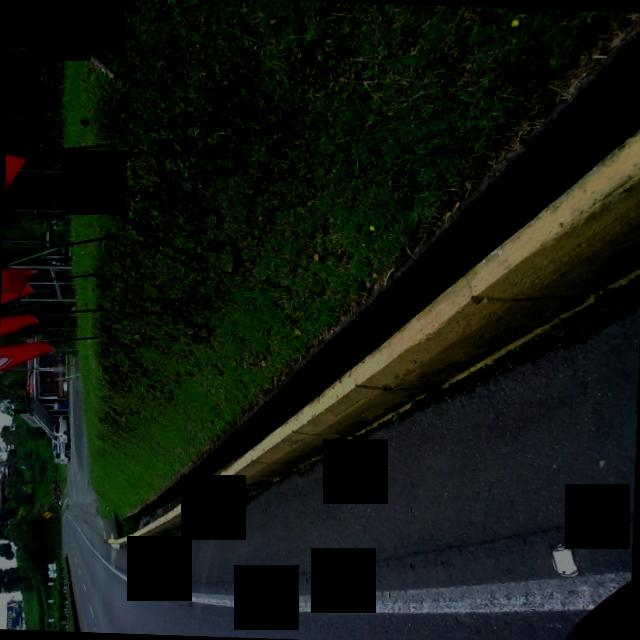DITCH: (40, 0, 640, 640), (43, 0, 640, 601), (61, 0, 640, 558)
